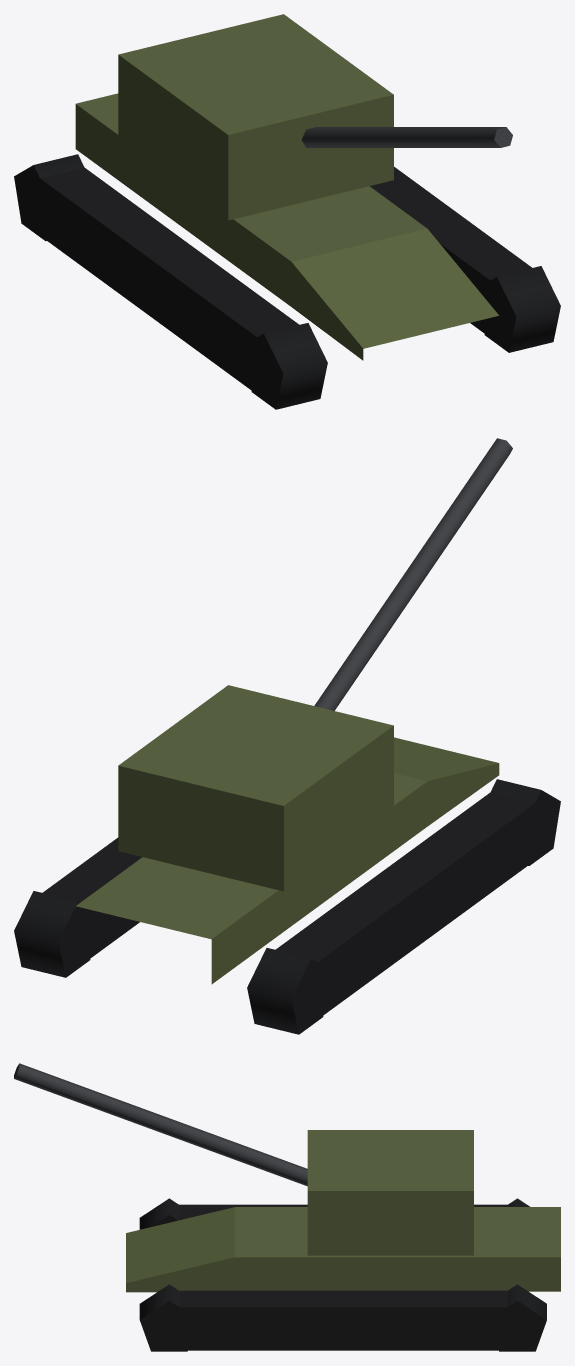
The model's file is veh_ground_sp_artillery_a08_lod1.glb.
The picture shows the model from 3 angles, top to bottom: view 1: azimuth 30°, elevation 25°; view 2: azimuth 150°, elevation 25°; view 3: azimuth 270°, elevation 25°; orthographic projection. The views are drawn at different scales.
Parts seen in each view (by area): view 1: turret, body, track_r, track_l; view 2: turret, track_r, body, track_l; view 3: body, turret, track_l, track_r.
Boxes of the visible parts, bbox=[...] form: turret: bbox=[118, 14, 512, 220]; body: bbox=[75, 93, 498, 360]; track_r: bbox=[14, 154, 327, 409]; track_l: bbox=[369, 167, 560, 352]; turret: bbox=[118, 438, 512, 891]; track_r: bbox=[247, 779, 560, 1034]; body: bbox=[76, 737, 499, 984]; track_l: bbox=[14, 837, 142, 977]; body: bbox=[126, 1207, 560, 1292]; turret: bbox=[14, 1063, 473, 1255]; track_l: bbox=[139, 1284, 546, 1351]; track_r: bbox=[139, 1198, 529, 1229].
Bounding box in the file's own units: 4.08 × 4.37 × 9.21.
